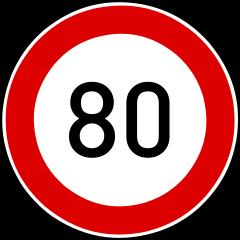Speed Limit -80-: (58, 68, 174, 168)
